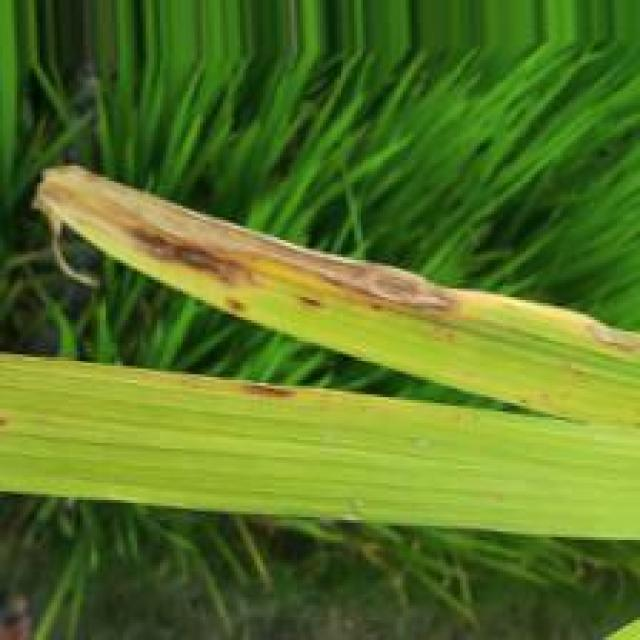Leaf_Scald: (43, 166, 468, 314), (236, 381, 302, 399)
